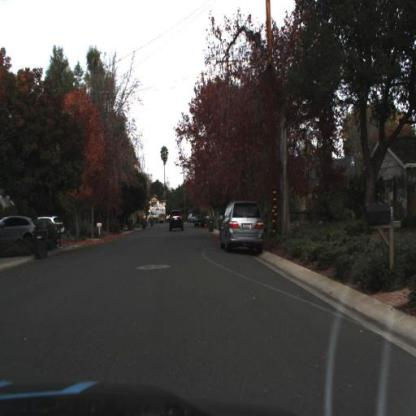car: (219, 201, 265, 253), (1, 216, 39, 252), (46, 212, 67, 241), (166, 209, 187, 235), (194, 214, 206, 228)
